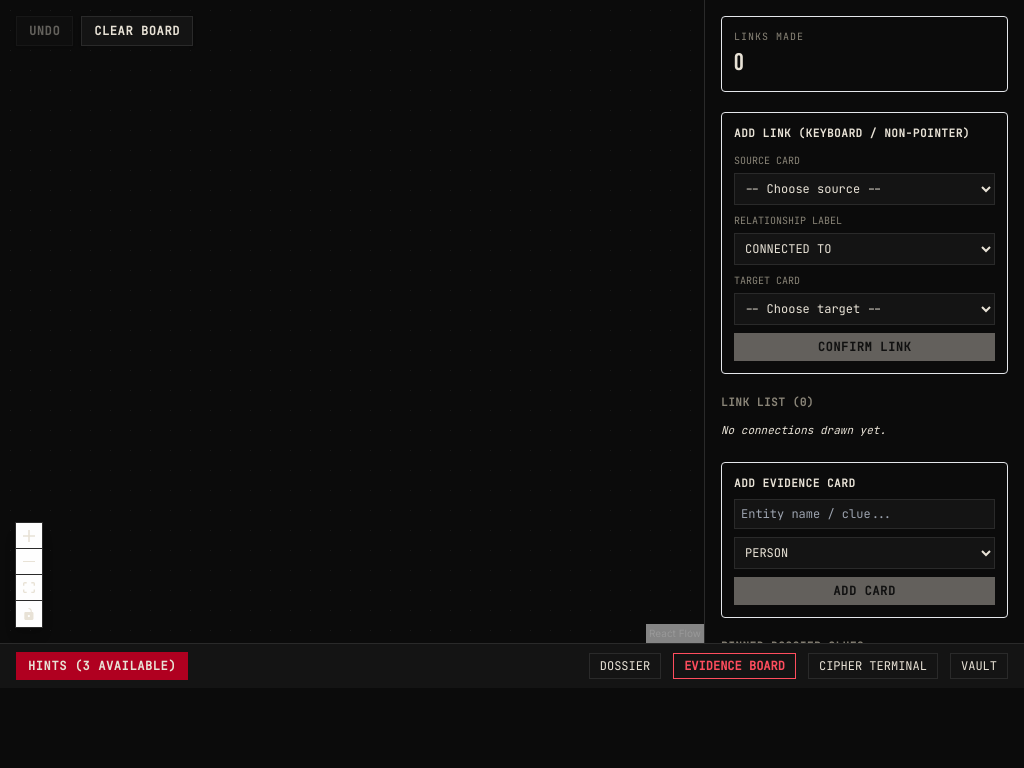
it: Phase 4 Verification: Board, Cipher Terminal, Vault & Results › P4-01 & P4-02: Evidence Board Canvas, Links & Indistinguishability › P4-01: renders Evidence Board with nodes, Link List, and non-pointer ADD LINK
Expected: the text "LINKS MADE" is shown, left=734, top=30, right=804, bottom=43
Expected: the text "0" is shown, left=734, top=48, right=744, bottom=77
// Select source, relation, target
Select "Tomas Herrera (person)" in the dropdown labelled "Source Card" at [864, 189], box left=734, top=173, right=995, bottom=205
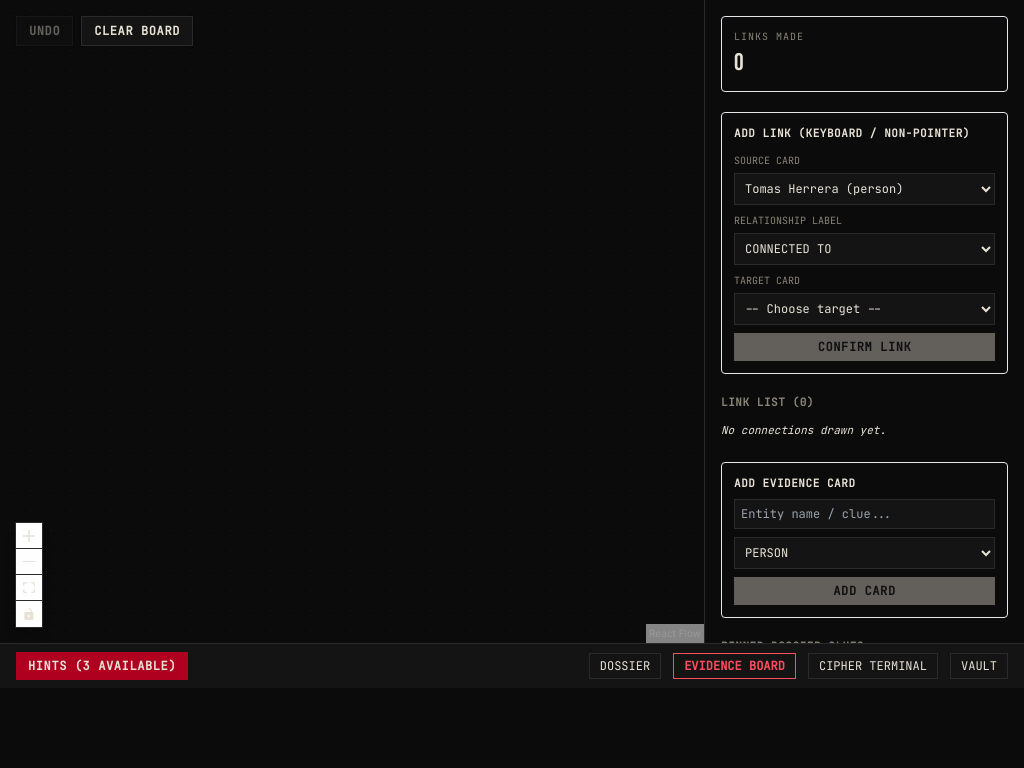
Select "SEEN AT" in the dropdown labelled "Relationship Label" at [864, 249], box left=734, top=233, right=995, bottom=265
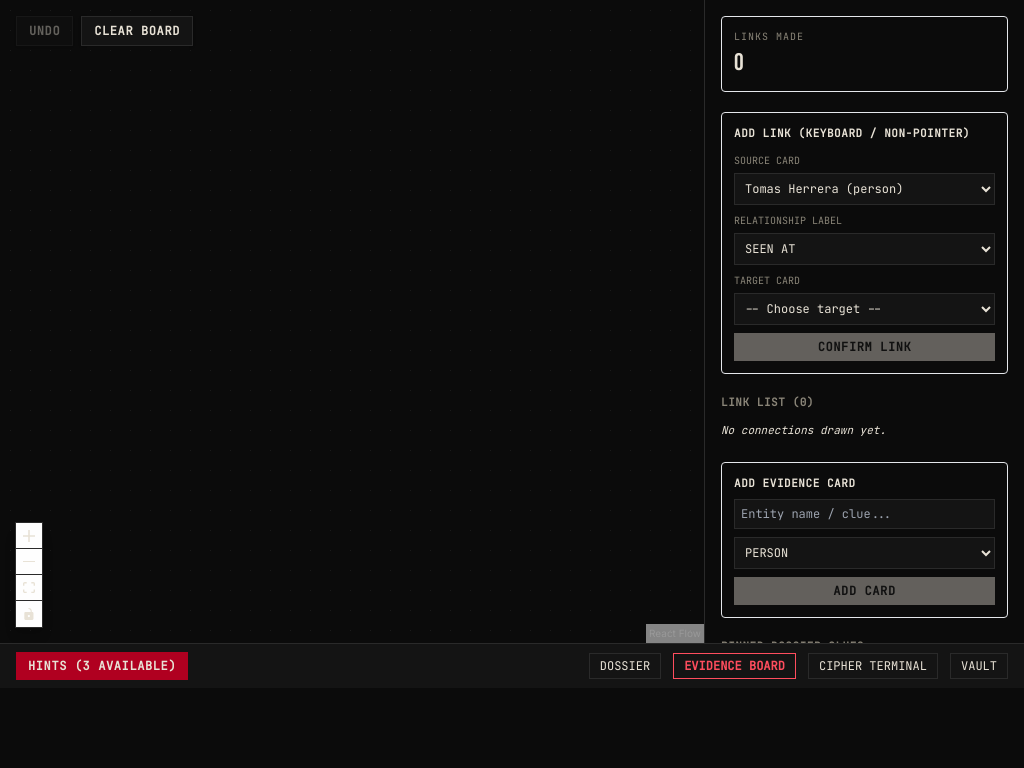
Select "Panel 38 (location)" in the dropdown labelled "Target Card" at [864, 309], box left=734, top=293, right=995, bottom=325
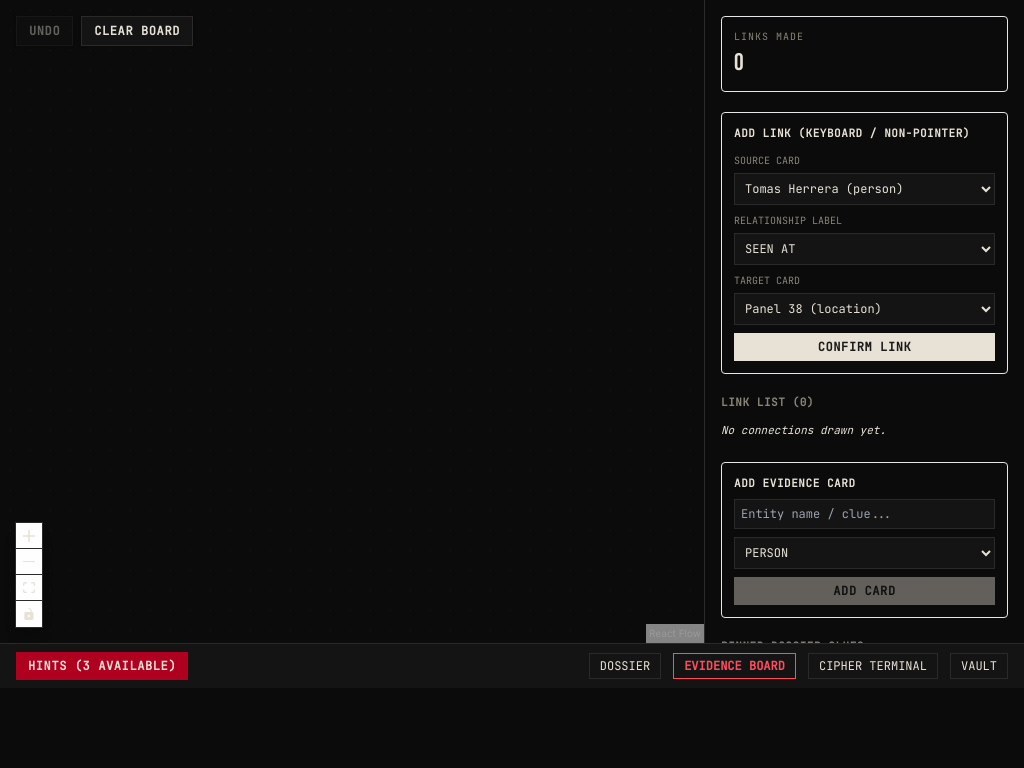
Expected: the button "CONFIRM LINK" is enabled
Click the button "CONFIRM LINK" at [864, 347], box left=734, top=333, right=995, bottom=361
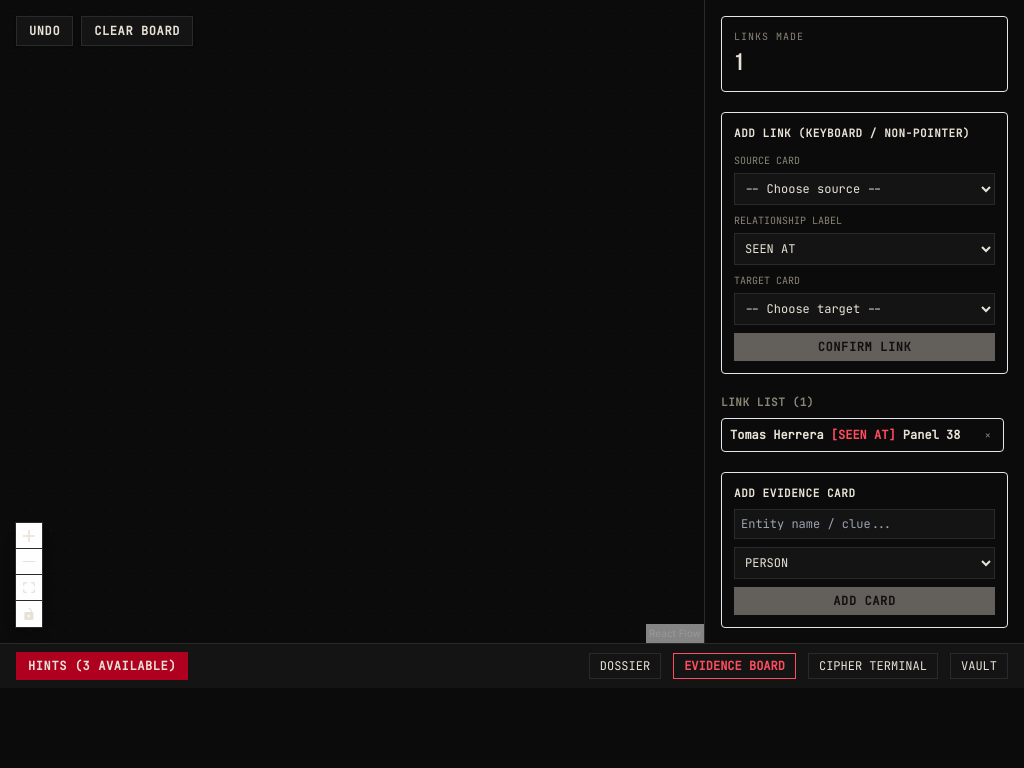
Expected: the text "[SEEN AT]" is shown, left=831, top=427, right=896, bottom=443
Expected: the text "1" is shown, left=734, top=48, right=744, bottom=77
